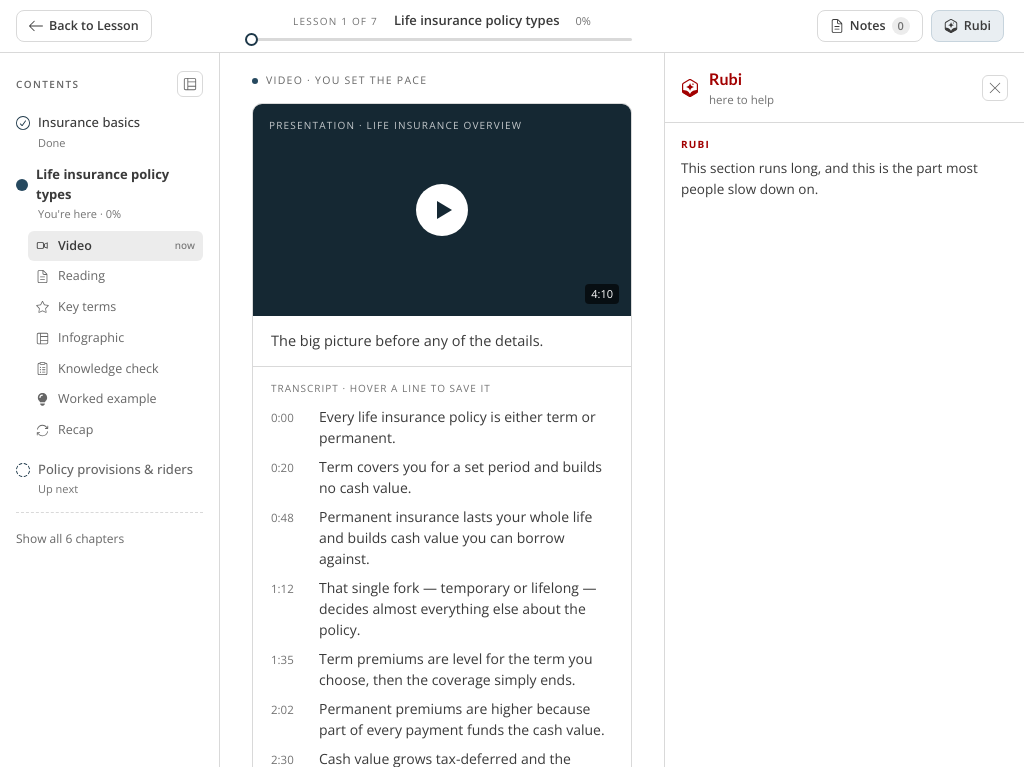
Test case: the Key terms beat › off: the original “Flip to check” grid is back, untouched
What coordinates should you click on to do the following:
click the button "Key terms"
I would click on:
 (116, 307)
Its box is [28, 292, 203, 323].
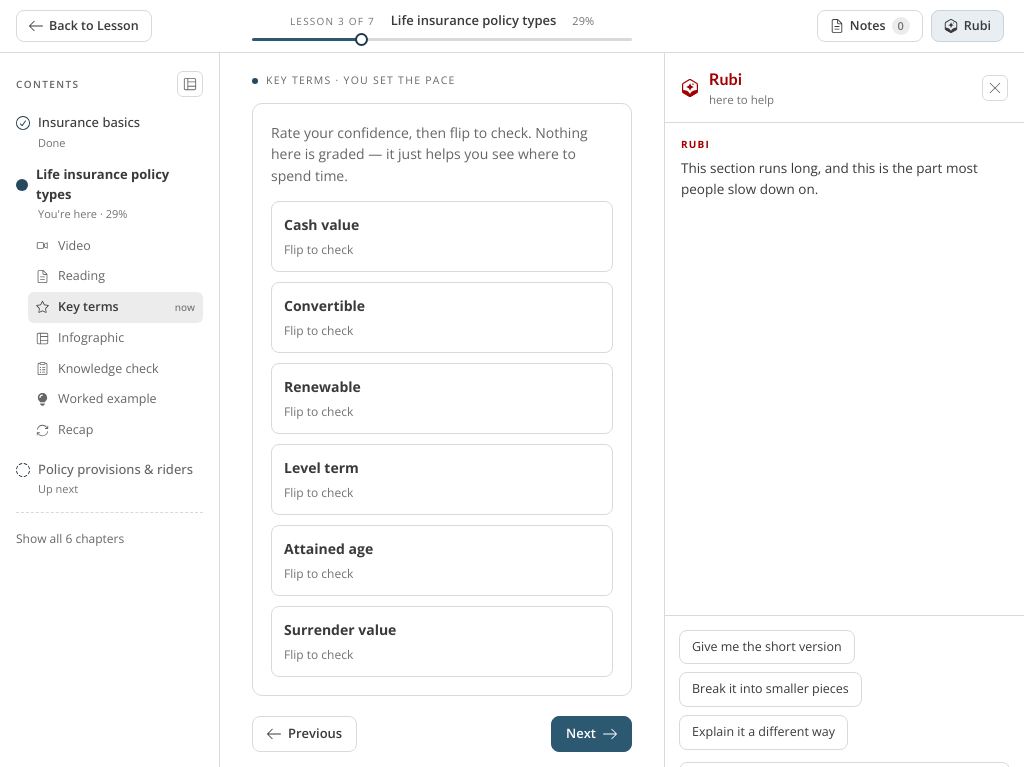
Expected: the 1st text "Flip to check" is shown, [284, 241, 353, 259]
